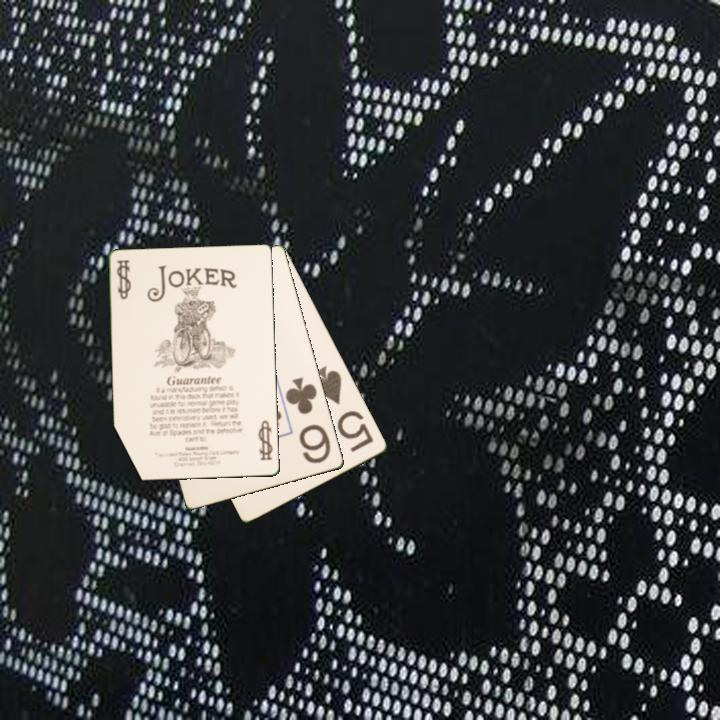5s: (310, 362, 377, 455)
6c: (282, 374, 334, 467)
JK: (255, 417, 276, 464), (113, 256, 134, 302)
